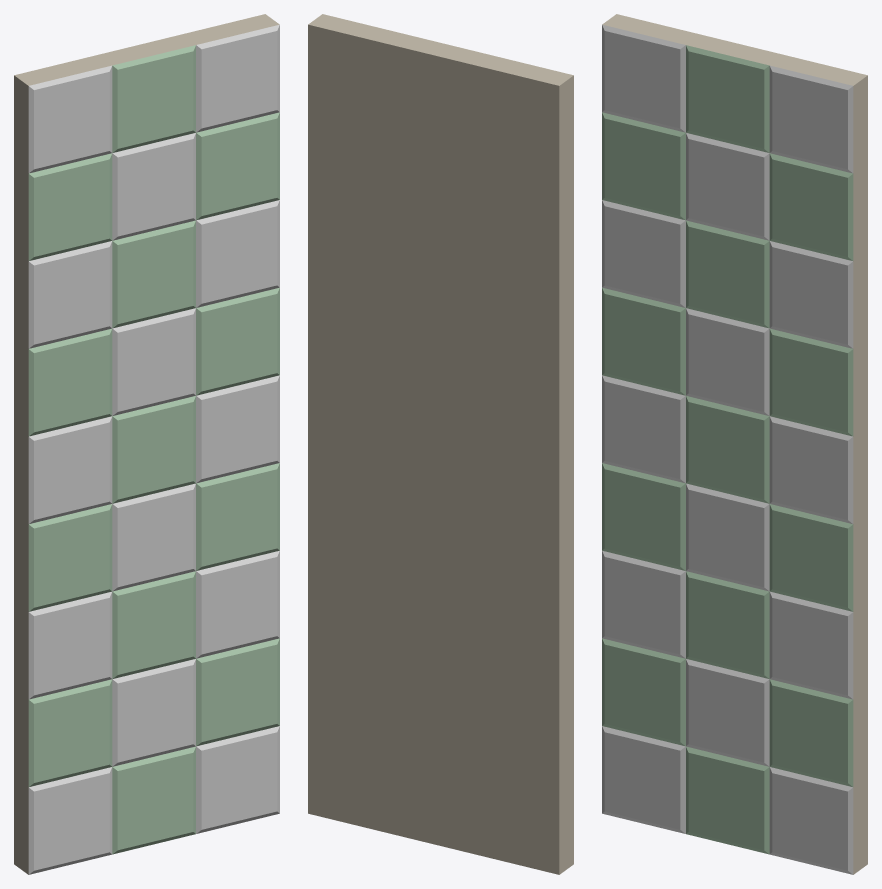
The model's file is Mesh_WallCeramic_G1.fbx.
3 views of the same model, side by side, from view 1: azimuth 30°, elevation 25°; view 2: azimuth 150°, elevation 25°; view 3: azimuth 330°, elevation 25° (orthographic).
Parts seen in each view (by area): view 1: Mesh_WallCeramic_G1; view 2: Mesh_WallCeramic_G1; view 3: Mesh_WallCeramic_G1.
Boxes of the visible parts, x1,y1,x2,y2 form: Mesh_WallCeramic_G1: [14, 14, 279, 874]; Mesh_WallCeramic_G1: [308, 14, 573, 874]; Mesh_WallCeramic_G1: [602, 14, 867, 874].
Bounding box in the file's own units: 1 × 3 × 0.1096.
